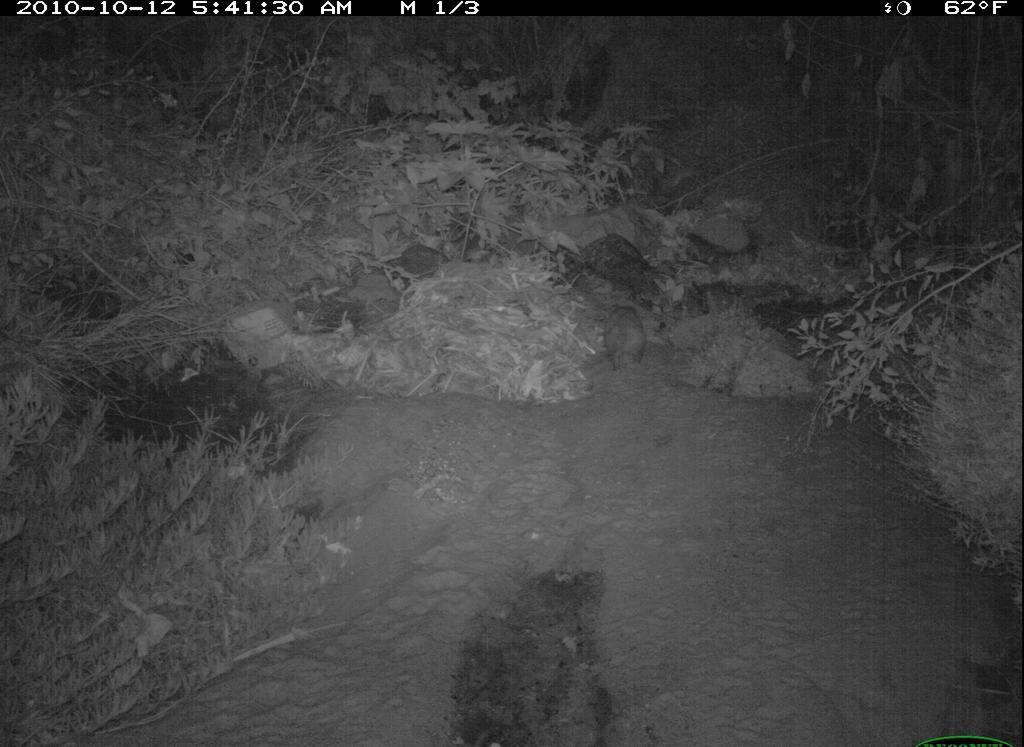opossum: (585, 286, 670, 381)
